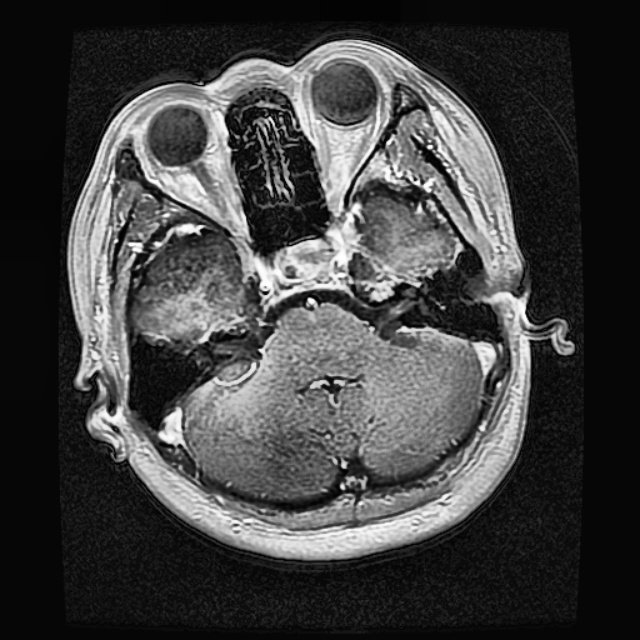Pituitary: (263, 234, 353, 297)
